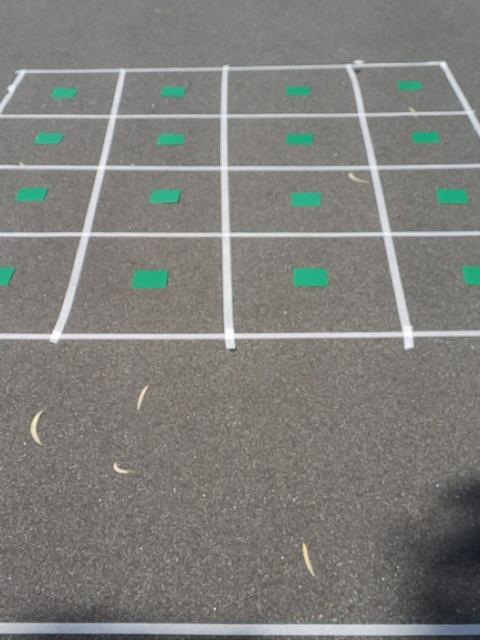weed: (129, 269, 170, 290), (292, 265, 329, 287), (13, 185, 50, 204), (290, 190, 322, 209), (150, 188, 181, 205), (436, 188, 468, 204), (411, 130, 441, 146), (286, 132, 313, 148), (156, 133, 187, 146), (50, 86, 77, 100), (161, 84, 187, 98), (36, 132, 65, 144), (463, 265, 480, 285), (283, 85, 312, 96), (0, 265, 16, 284), (396, 78, 422, 89)
